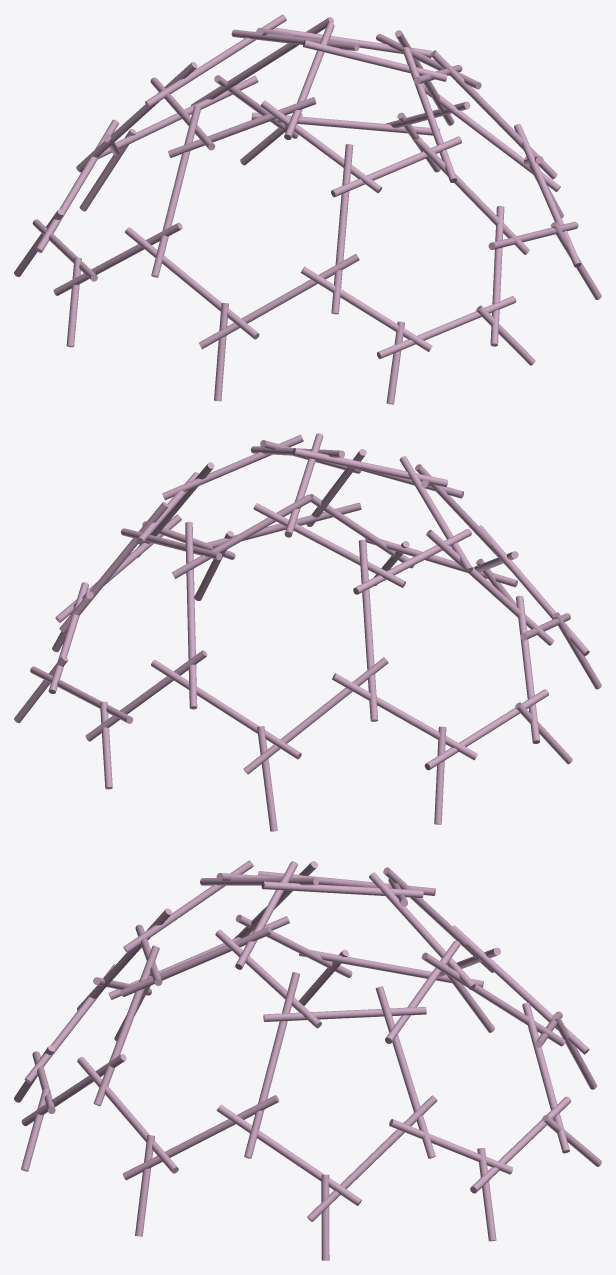
3 renders of one model, top to bottom at view 1: azimuth 30°, elevation 25°; view 2: azimuth 150°, elevation 25°; view 3: azimuth 270°, elevation 25°, orthographic. The views are drawn at different scales.
Size of the model in its own units: 3.89 by 1.9 by 3.76.
